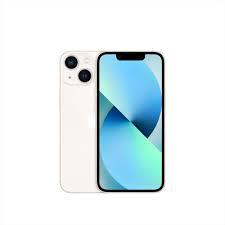Smartphone: (106, 54, 162, 191), (63, 50, 109, 195)
